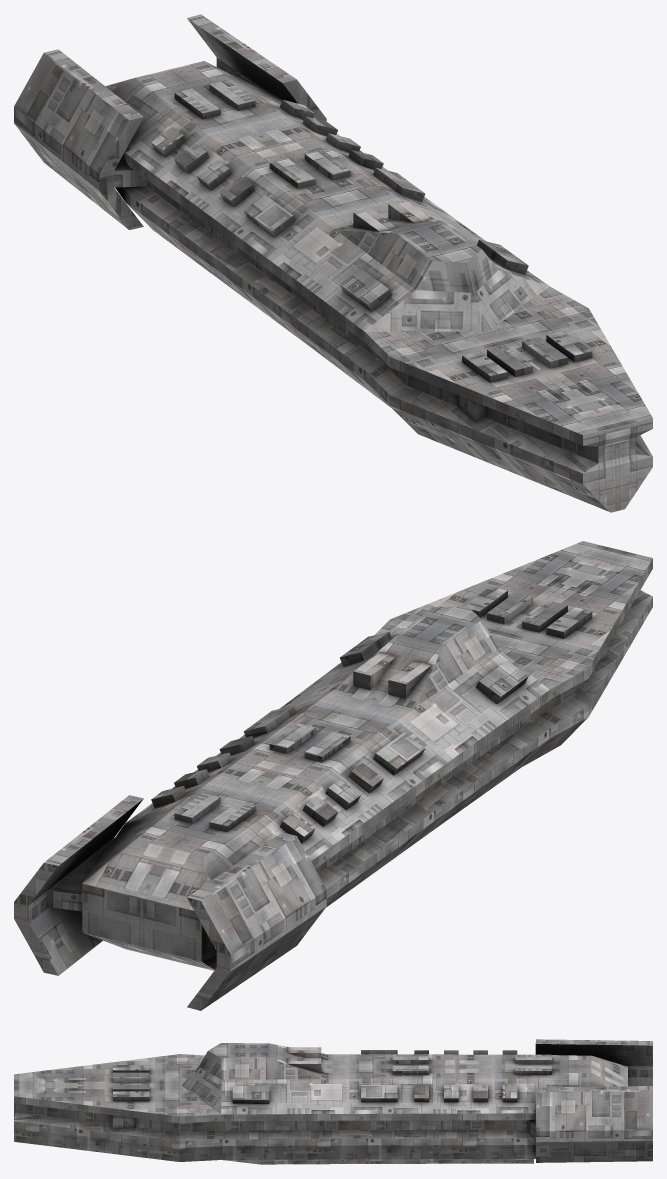
File: Bigship.FBX
The picture shows the model from 3 angles, top to bottom: view 1: azimuth 30°, elevation 25°; view 2: azimuth 150°, elevation 25°; view 3: azimuth 270°, elevation 25°; orthographic projection. The views are drawn at different scales.
Visible parts, largest first — view 1: BigShip; view 2: BigShip; view 3: BigShip.
Part boxes in pixels (left/top/right/bottom): BigShip: left=14, top=14, right=652, bottom=512; BigShip: left=14, top=541, right=652, bottom=1010; BigShip: left=14, top=1039, right=652, bottom=1164.
Bounding box in the file's own units: 146 × 95.71 × 552.
